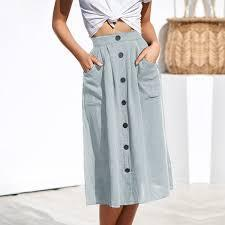skirt: (81, 32, 168, 203)
